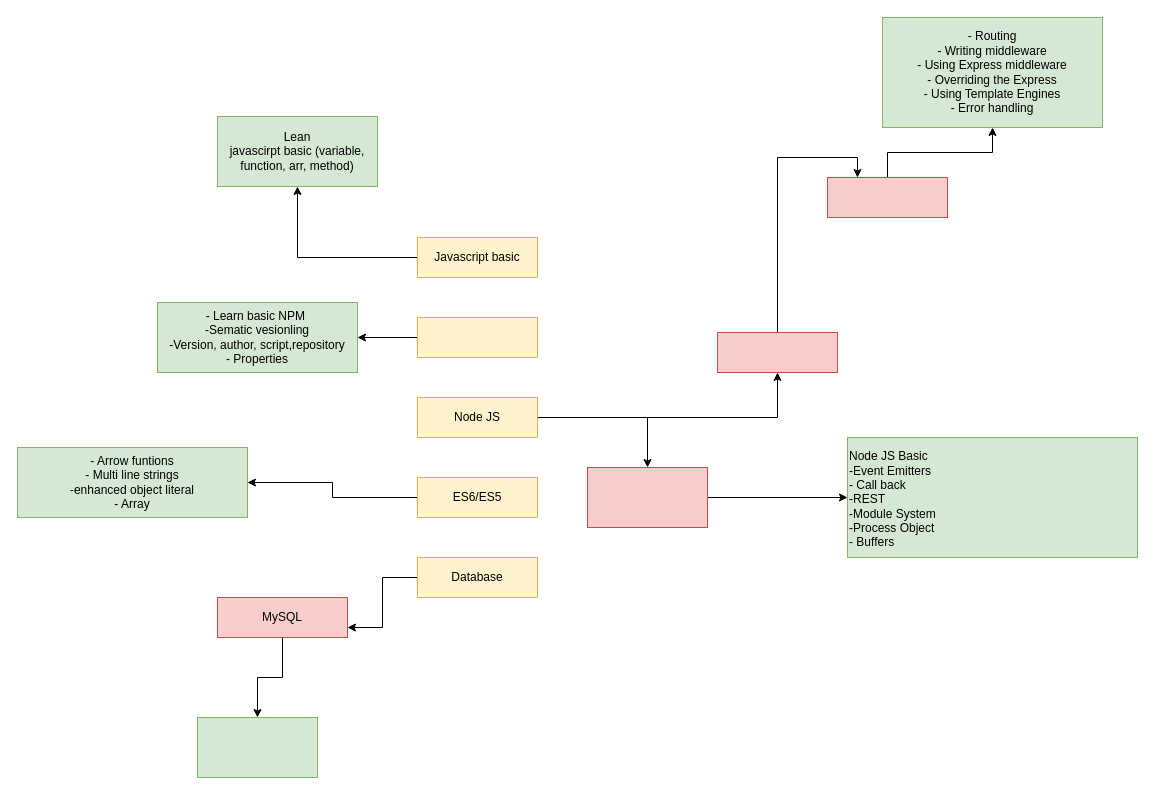
The diagram is 1155 pixels wide and 803 high, and some of its shapes have lost their labels. Each missing label, with the centre of its shape:
"Express.js" belongs at (887,197).
"Node JS Basic" belongs at (647,497).
"NPM" belongs at (477,337).
"Tutorial MySQL" belongs at (257,747).
"Web Frameworks" belongs at (777,352).
